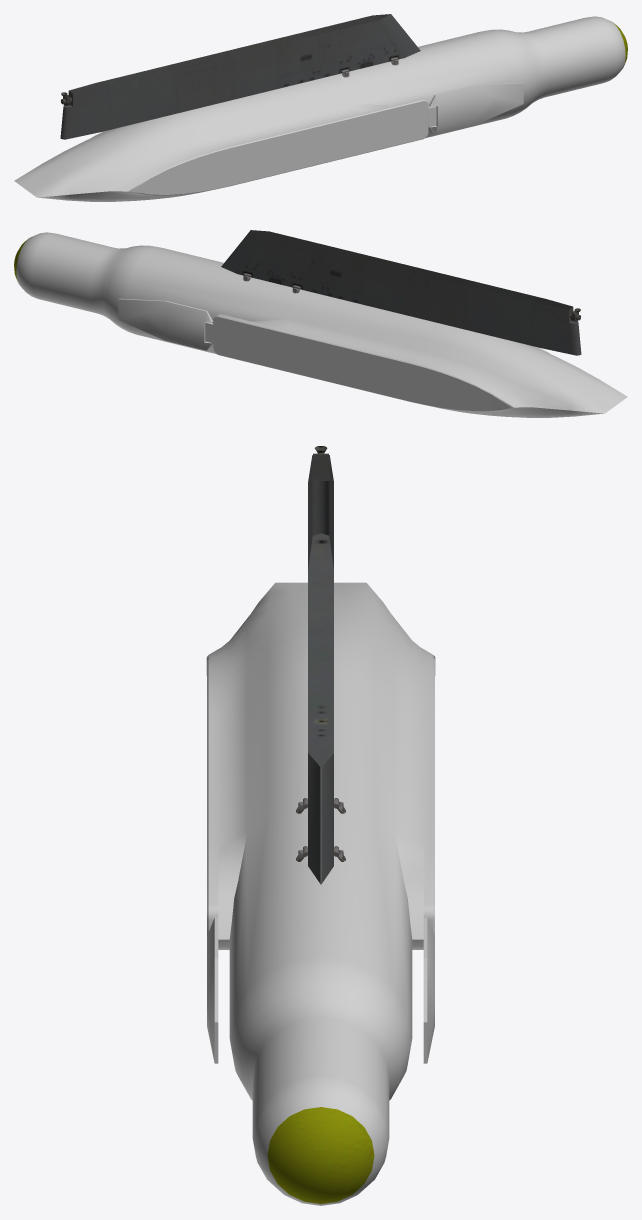
File: f15e_SWP3_SM.FBX
The picture shows the model from 3 angles, top to bottom: view 1: azimuth 30°, elevation 25°; view 2: azimuth 150°, elevation 25°; view 3: azimuth 270°, elevation 25°; orthographic projection. The views are drawn at different scales.
Parts seen in each view (by area): view 1: f15e_SWP3_SM; view 2: f15e_SWP3_SM; view 3: f15e_SWP3_SM.
Boxes of the visible parts, <box> form: f15e_SWP3_SM: <box>14,14,627,201</box>; f15e_SWP3_SM: <box>14,230,627,417</box>; f15e_SWP3_SM: <box>206,446,435,1205</box>.
Size of the model in its own units: 60.5 by 12.33 by 10.02.
